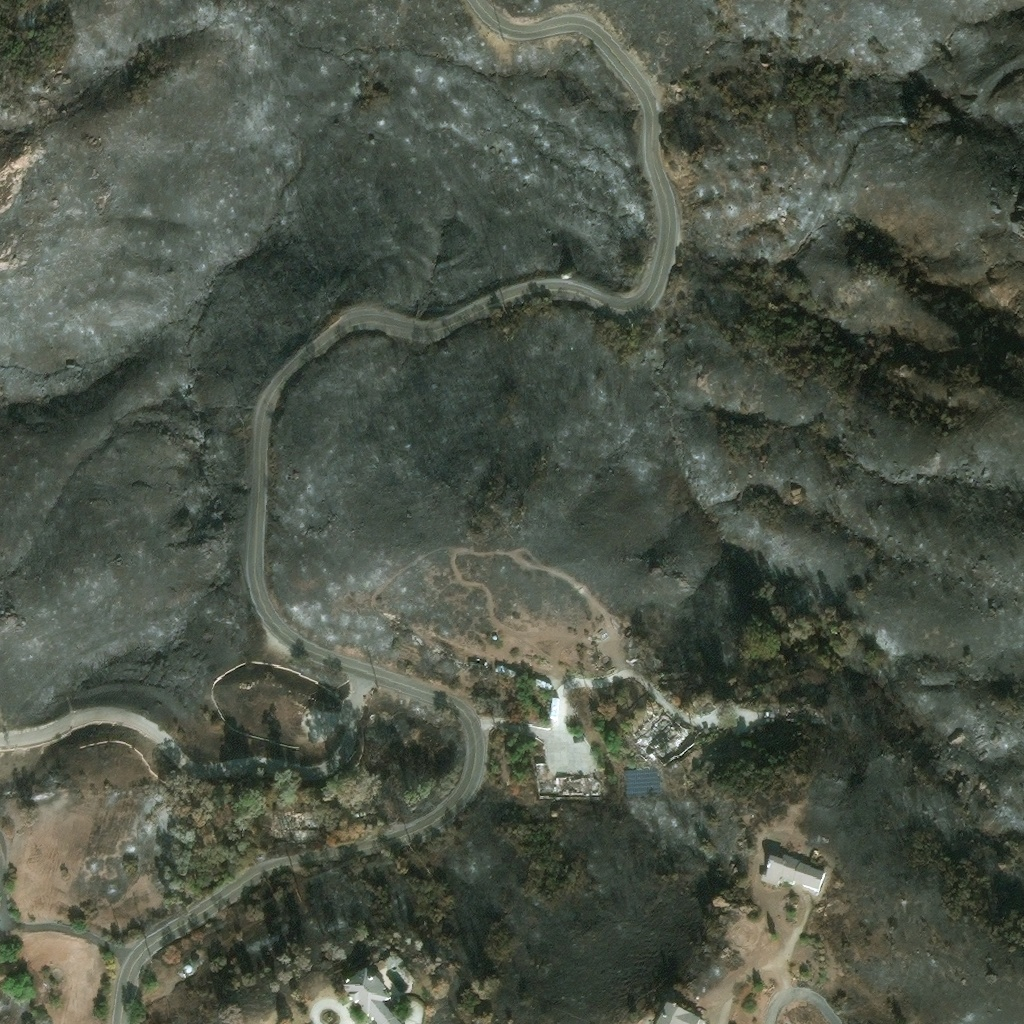0 no-damage: (340, 968, 401, 1023), (760, 854, 828, 897), (625, 769, 662, 799), (655, 1002, 707, 1023), (183, 964, 193, 974)
3 destroyed: (626, 715, 686, 764), (554, 770, 600, 798), (273, 808, 314, 839), (493, 665, 518, 681), (534, 679, 554, 694), (468, 660, 485, 673), (810, 711, 825, 725), (628, 647, 638, 662), (538, 785, 548, 794), (492, 637, 498, 643)
4 un-classified: (383, 953, 406, 973)
